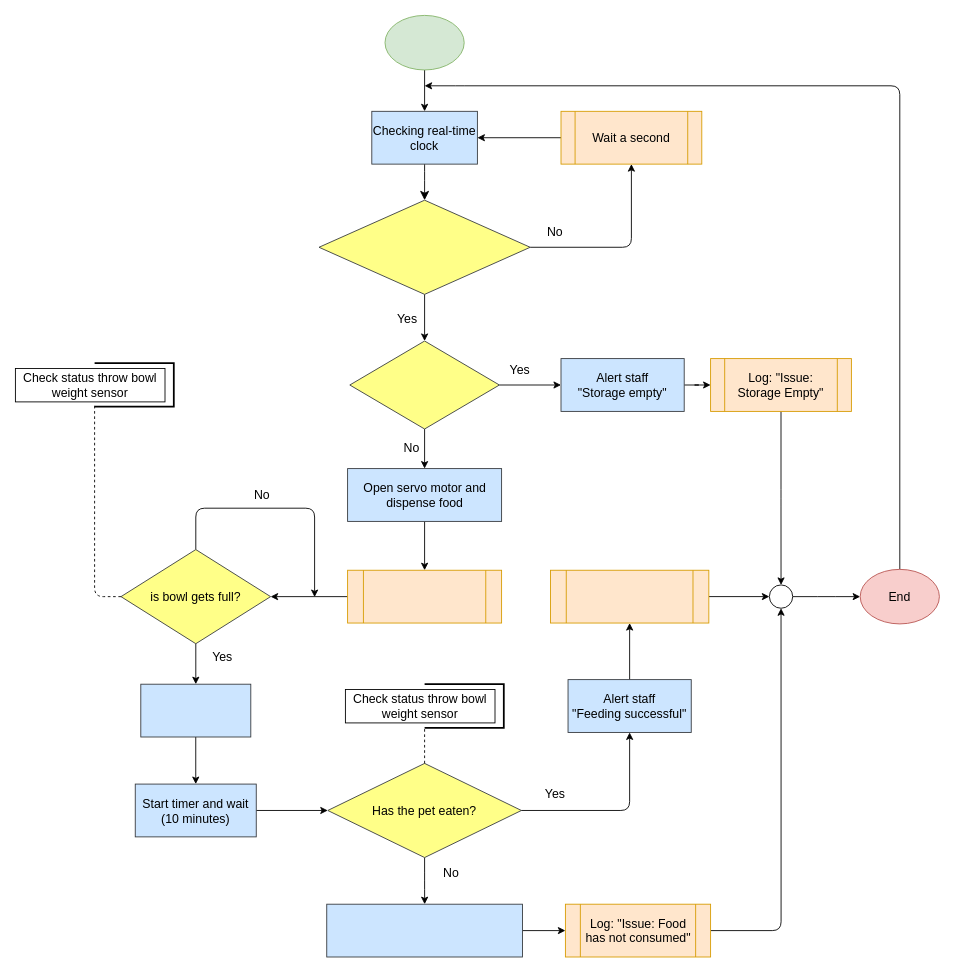
Some shapes in this 955 by 972 pixel diagram are drawn without their labels. Here are the shapes that lost their labels. From the top down, the centre of each, then its label:
the point at 424,42: System ON
the point at 424,246: Is it feeding time? ( ex: 6:00 or 18:00)
the point at 424,384: Is there food in the container?
the point at 424,596: Log: "Feeding process is starting"
the point at 629,596: Log: "Feeding successful"
the point at 195,710: Close serve motor
the point at 424,930: Alert staff "Food has not consumed"
